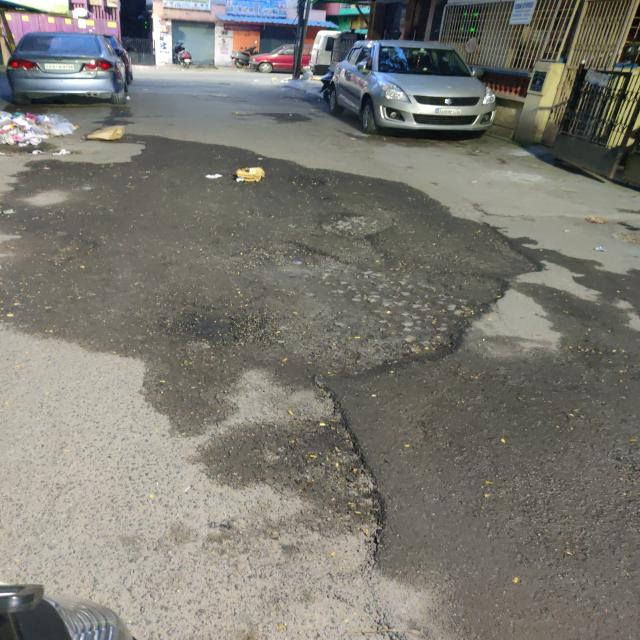potholes: (153, 167, 536, 394), (192, 414, 382, 531)
